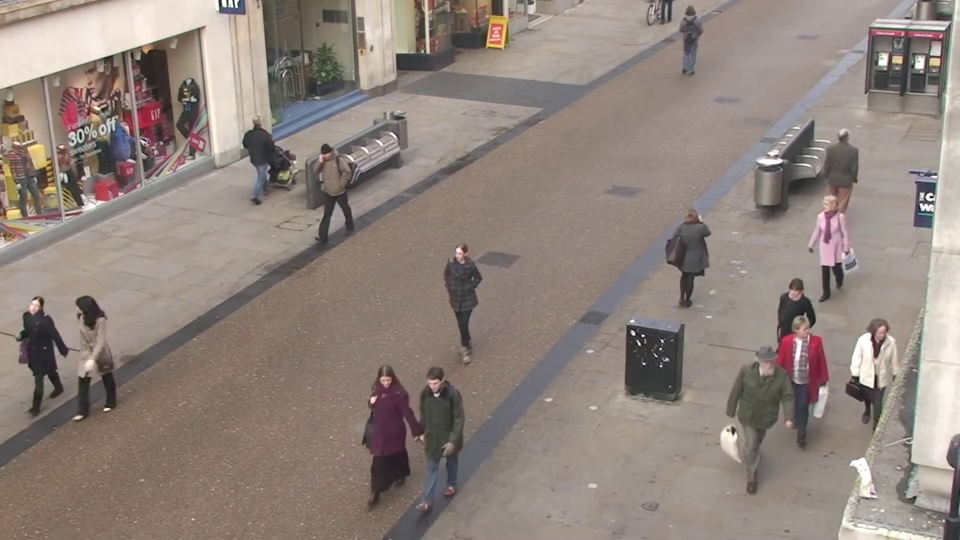pedestrian: (4, 292, 71, 432), (352, 364, 409, 522), (848, 317, 907, 468), (47, 295, 110, 436), (737, 348, 793, 506), (401, 371, 456, 530), (771, 316, 826, 465), (759, 279, 809, 418), (436, 245, 480, 376), (800, 192, 844, 309), (673, 199, 713, 318), (823, 125, 862, 225), (302, 143, 340, 245), (247, 106, 282, 197), (677, 3, 701, 69)
